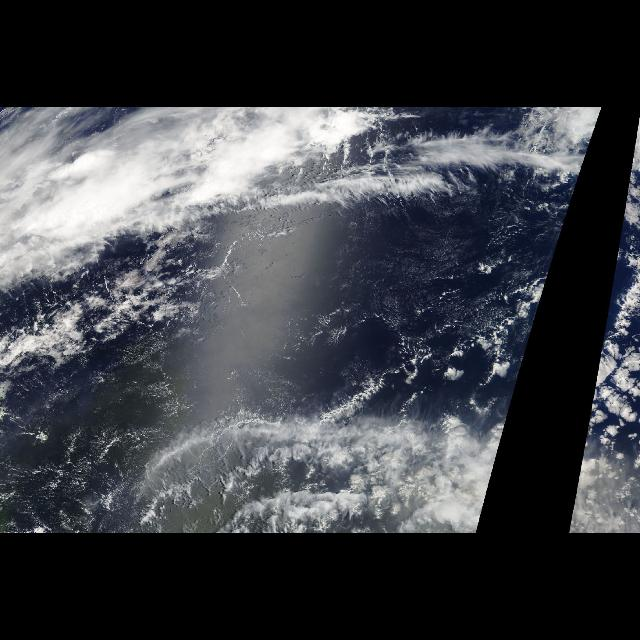Sugar: (4, 368, 302, 522), (308, 214, 470, 346)
